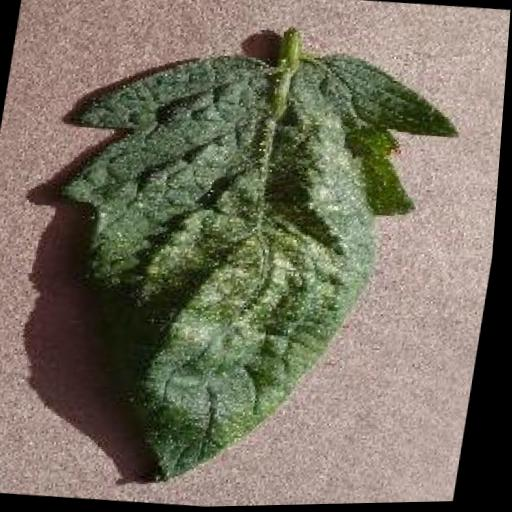Spider Mites: (27, 28, 470, 510)
